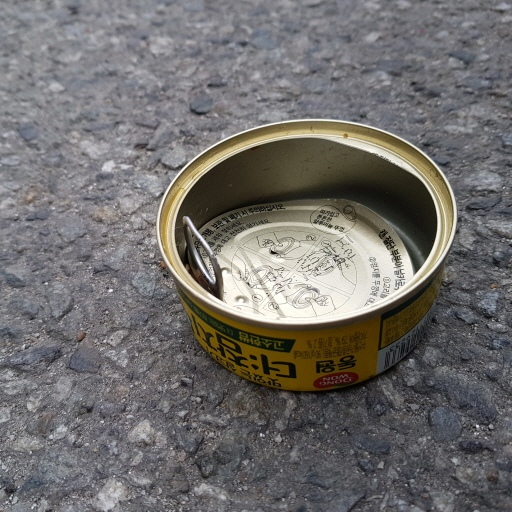Metal_1: (152, 117, 460, 392)
